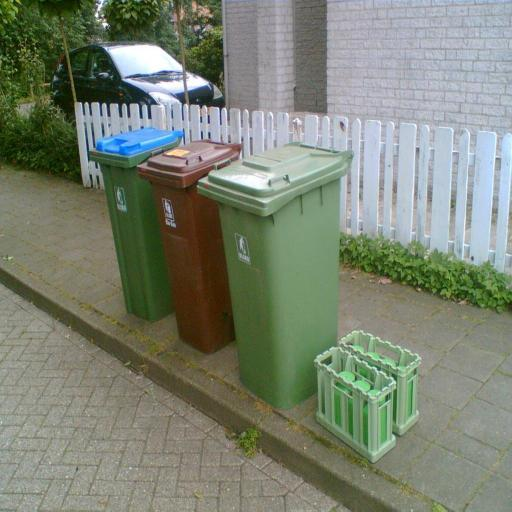trash-can: (198, 123, 358, 417)
